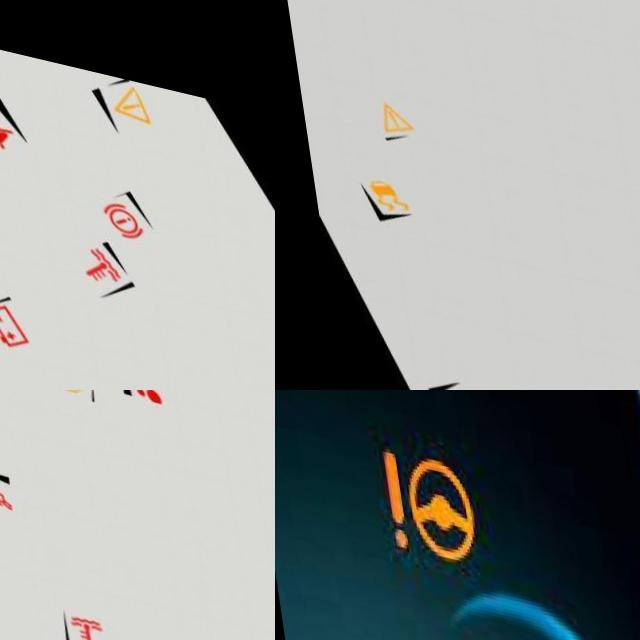Electronic Power Steering: (361, 427, 481, 577)
